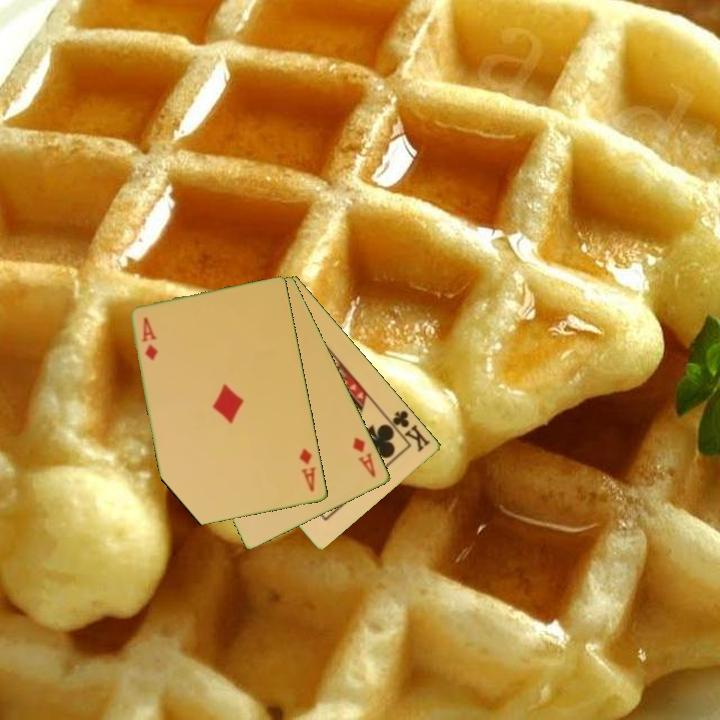Ad: (349, 433, 379, 481), (296, 445, 319, 495), (139, 314, 161, 363)
Kc: (384, 407, 433, 455)
